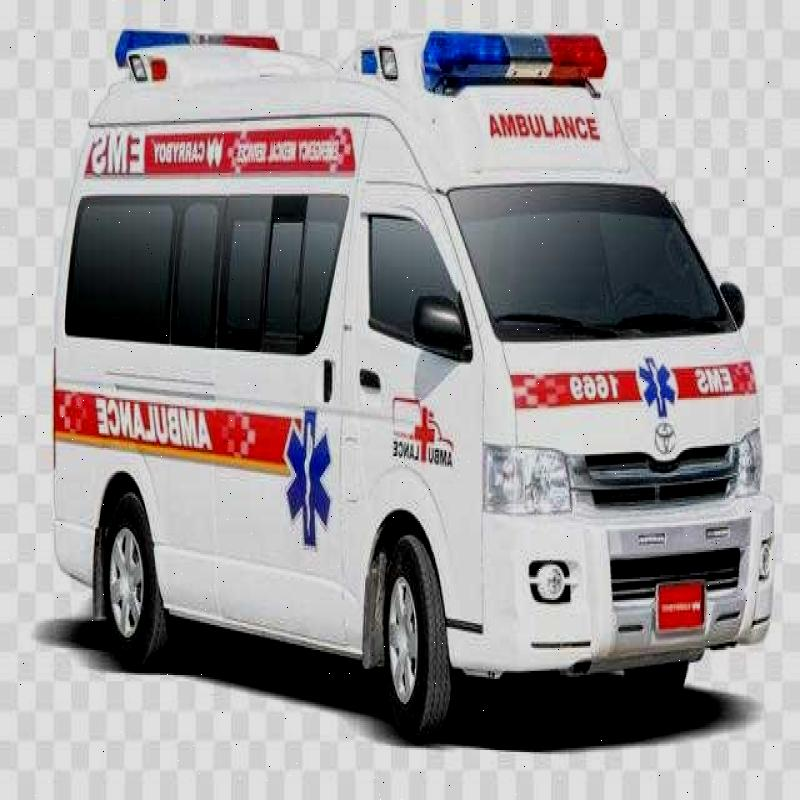AmbulanceSiren: (400, 21, 624, 117)
